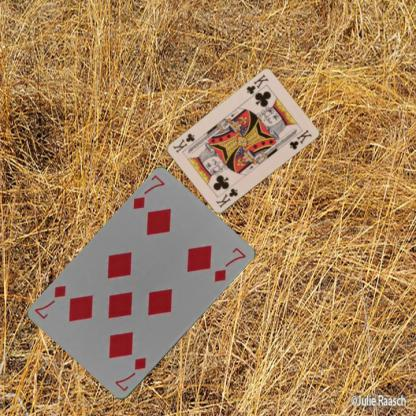7d: (112, 355, 148, 393), (130, 173, 166, 211)
Kc: (244, 72, 270, 96), (213, 186, 239, 209)
